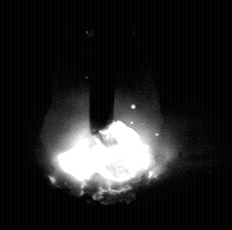arame: (90, 0, 116, 134)
poca: (39, 0, 170, 230)
